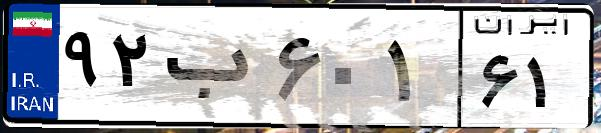0: (330, 28, 385, 110)
1: (385, 28, 445, 110), (525, 38, 570, 115)
2: (110, 28, 158, 98)
6: (270, 28, 330, 110), (475, 38, 525, 113)
9: (57, 26, 110, 100)
ب: (158, 20, 270, 120)
